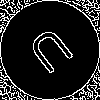U: (25, 25, 82, 83)
